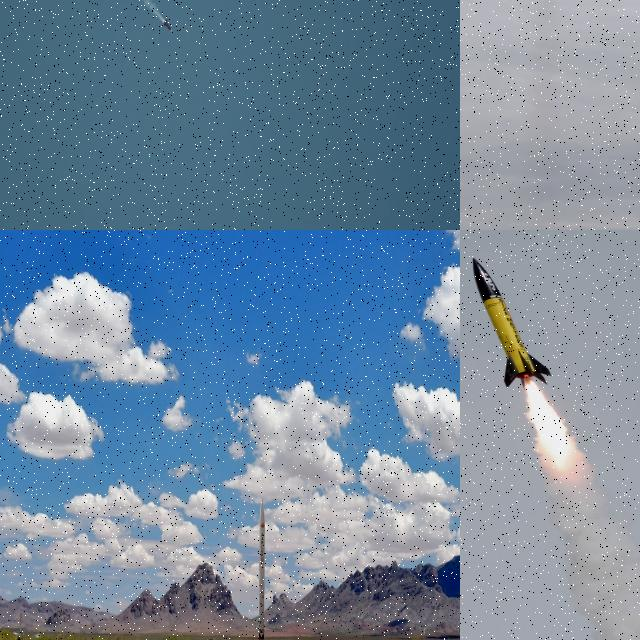Rocket: (471, 257, 553, 389), (259, 497, 265, 640), (164, 19, 173, 33)
